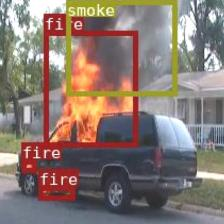fire: (44, 30, 136, 146), (38, 185, 74, 199), (20, 158, 35, 172)
smoke: (65, 0, 176, 95)
